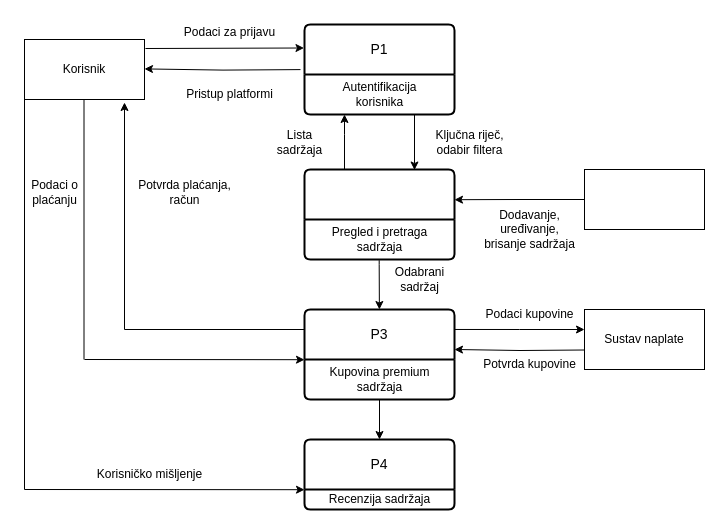
This 722x527 diagram has some shape labels left out. The box of each missing label's shape, as (x1, y1, x2, y2) in pixels:
Administrator: (584, 168, 704, 230)
P2: (303, 168, 455, 260)
